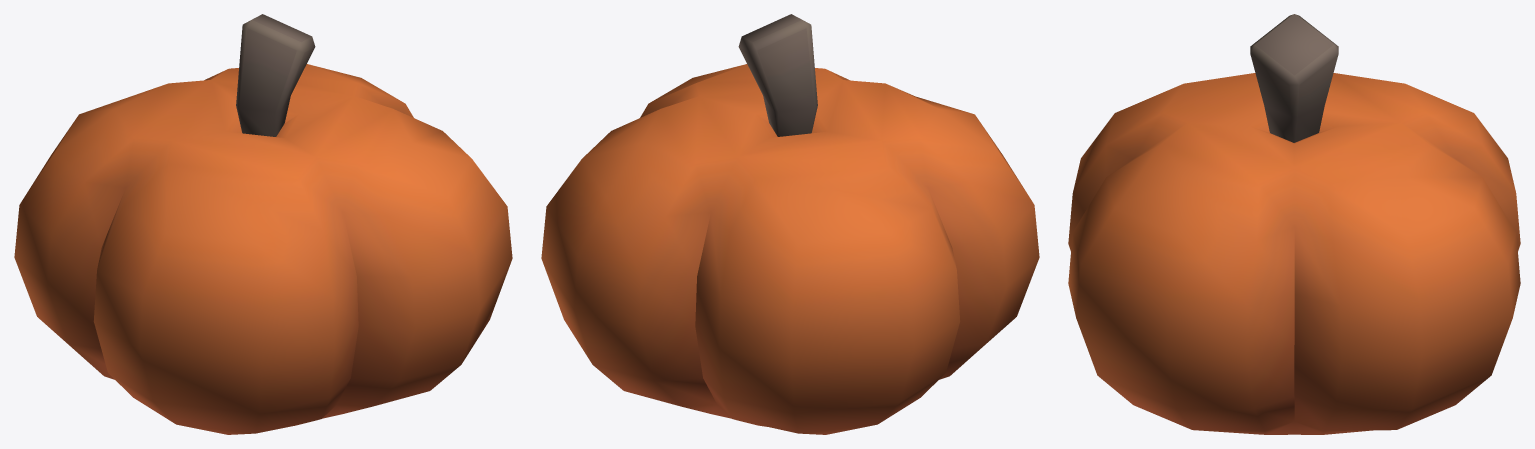
The model's file is d_kaykit_citrouille_petite.glb.
3 renders of one model, left to right at view 1: azimuth 30°, elevation 25°; view 2: azimuth 150°, elevation 25°; view 3: azimuth 270°, elevation 25°, orthographic.
Visible parts, largest first — view 1: d_kaykit_citrouille_petite; view 2: d_kaykit_citrouille_petite; view 3: d_kaykit_citrouille_petite.
Boxes of the visible parts, <box> form: d_kaykit_citrouille_petite: <box>14,14,512,434</box>; d_kaykit_citrouille_petite: <box>541,14,1039,434</box>; d_kaykit_citrouille_petite: <box>1068,14,1520,434</box>.
Bounding box in the file's own units: 0.6 × 0.55 × 0.6.
1 material, 1 textured.
